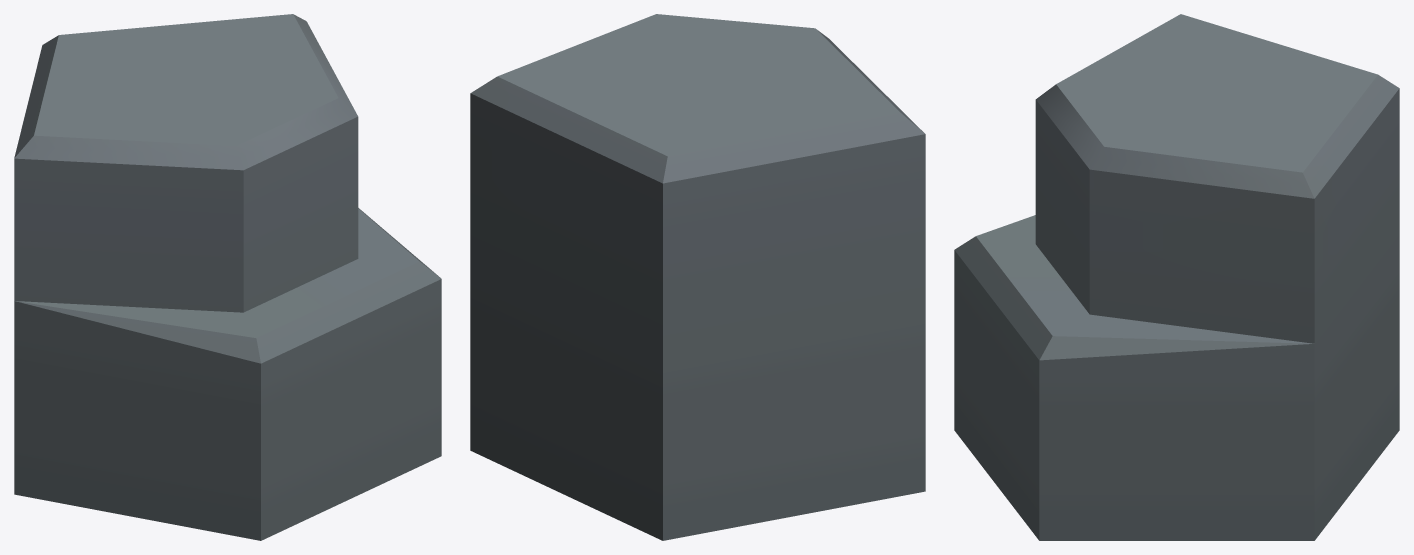
Rendered from Rock_1_A.glb.
The picture shows the model from 3 angles, left to right: view 1: azimuth 30°, elevation 25°; view 2: azimuth 150°, elevation 25°; view 3: azimuth 270°, elevation 25°; orthographic projection. The views are drawn at different scales.
Visible parts, largest first — view 1: Rock_1_A_Color1; view 2: Rock_1_A_Color1; view 3: Rock_1_A_Color1.
Boxes of the visible parts, x1,y1,x2,y2 form: Rock_1_A_Color1: [14, 14, 441, 540]; Rock_1_A_Color1: [470, 14, 925, 540]; Rock_1_A_Color1: [954, 14, 1399, 540].
Size of the model in its own units: 0.578 by 0.5403 by 0.6078.
1 material, 1 textured.
